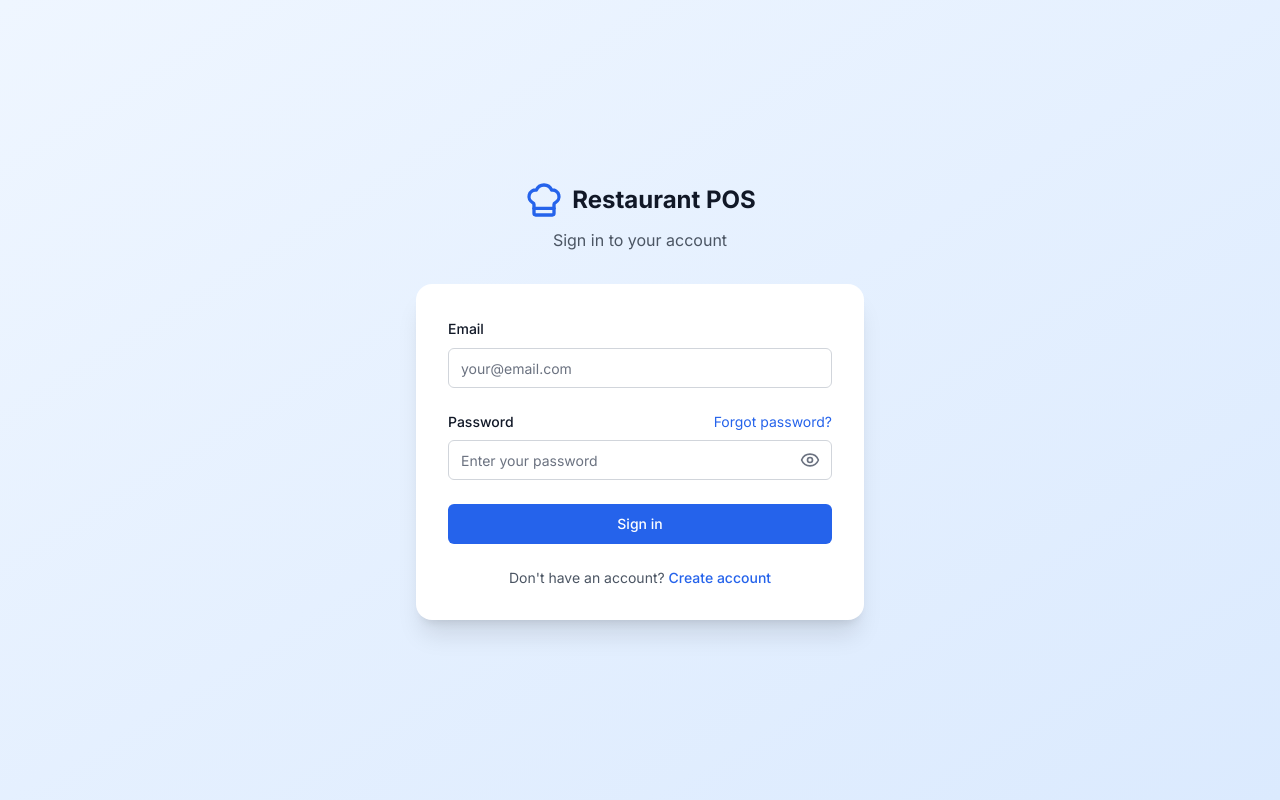
Test: LoginPage - Multi-Tenant Authentication Flow › Multi-Tenant Login › should show tenant selector modal when user has multiple tenants
The image size is (1280, 800).
In the field with placeholder "your@email.com": (640, 368) [448,348,832,388], type "multi@test.com"
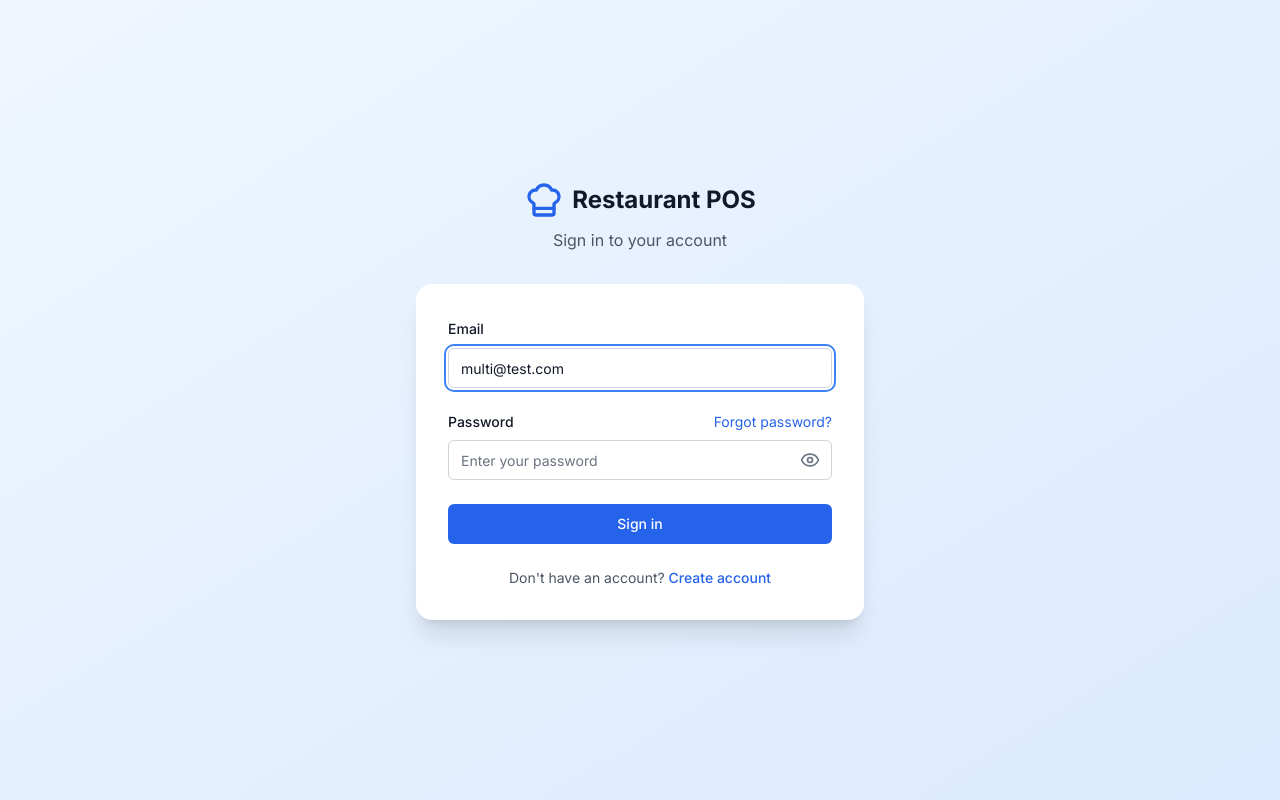
In the password field with placeholder "Enter your password": (640, 460) [448,440,832,480], type "password123"
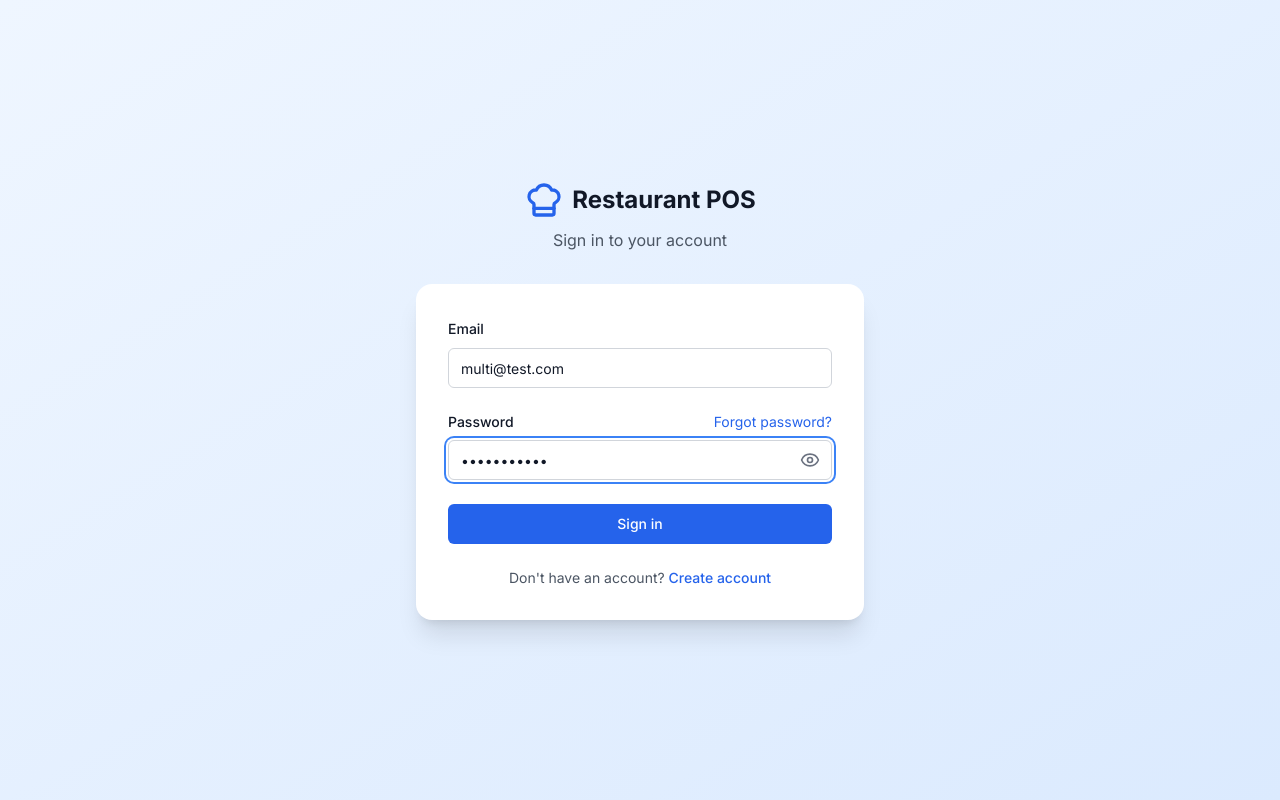
Click the button "Sign in": (640, 524) [448,504,832,544]
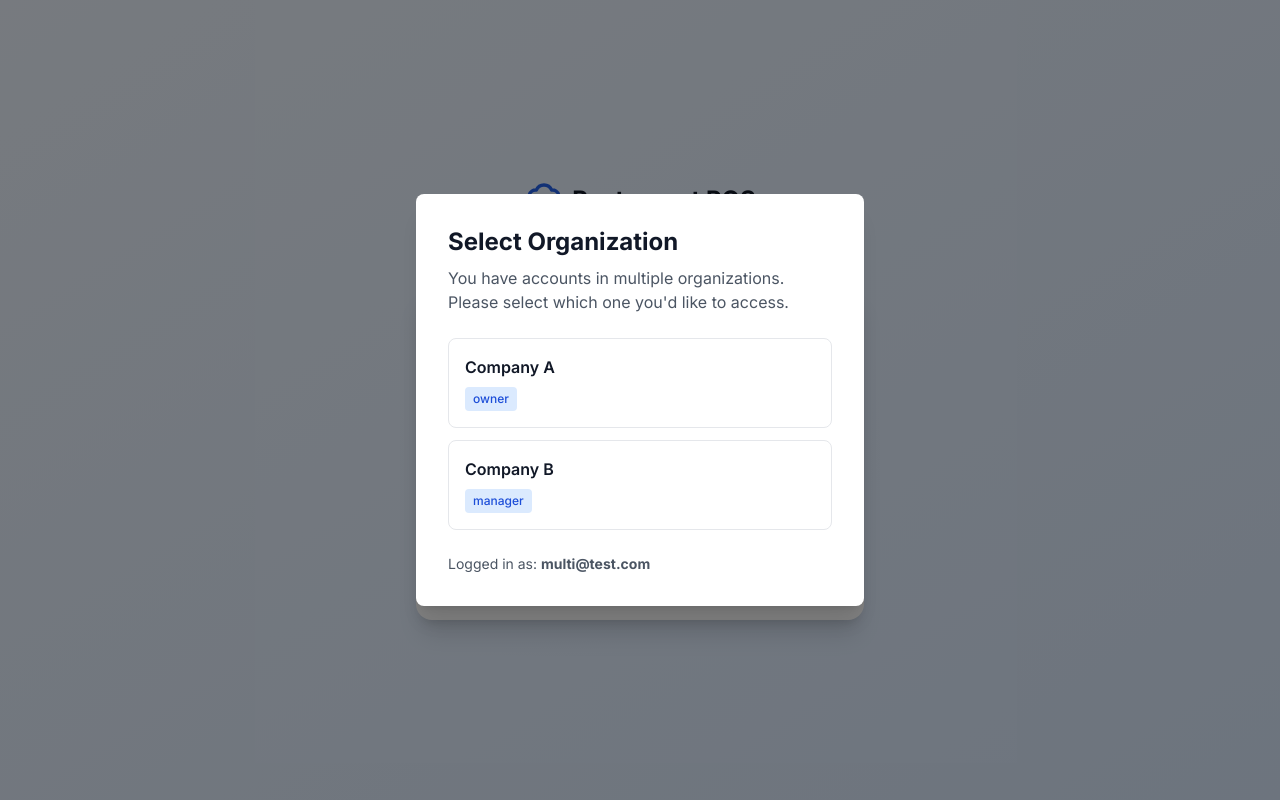
Expected: the heading "Select Organization" is shown, [448,227,678,256]
Expected: the heading "Company A" is shown, [465,357,555,377]
Expected: the heading "Company B" is shown, [465,459,554,479]
